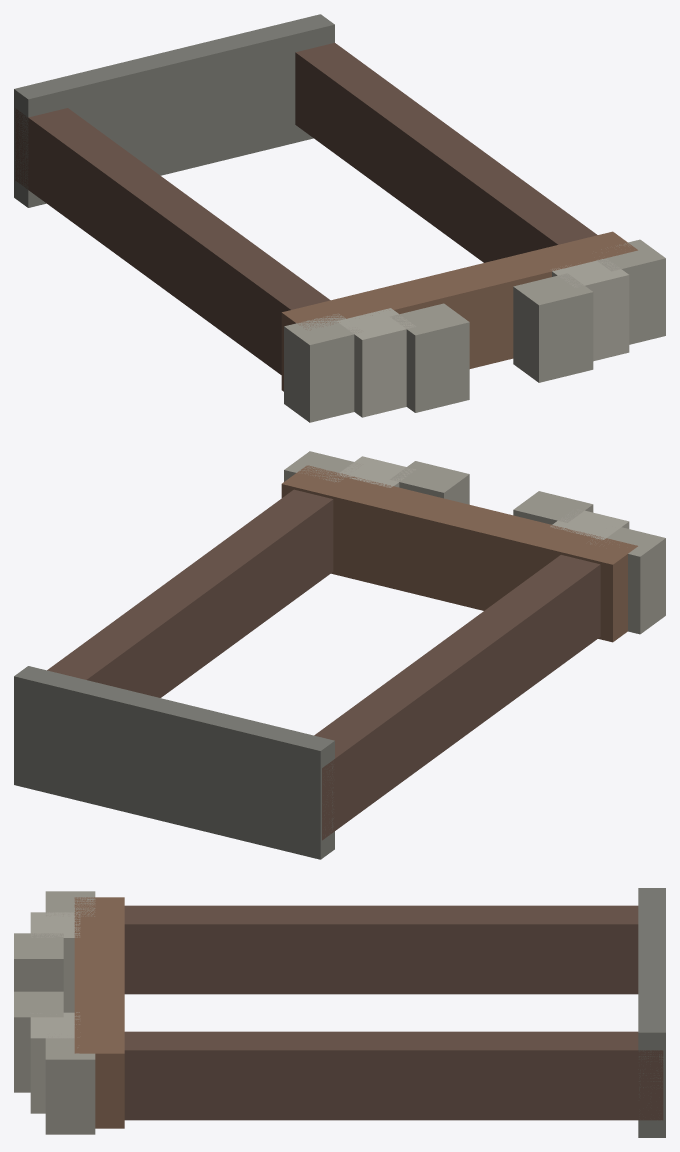
File: medieval_arch_doorframe.glb
The picture shows the model from 3 angles, top to bottom: view 1: azimuth 30°, elevation 25°; view 2: azimuth 150°, elevation 25°; view 3: azimuth 270°, elevation 25°; orthographic projection. The views are drawn at different scales.
Parts seen in each view (by area): view 1: medieval_arch_doorframe_000, medieval_arch_doorframe_009, medieval_arch_doorframe_001, medieval_arch_doorframe_002, medieval_arch_doorframe_006, medieval_arch_doorframe_005, medieval_arch_doorframe_003, medieval_arch_doorframe_004, medieval_arch_doorframe_007, medieval_arch_doorframe_008; view 2: medieval_arch_doorframe_009, medieval_arch_doorframe_000, medieval_arch_doorframe_002, medieval_arch_doorframe_001, medieval_arch_doorframe_005, medieval_arch_doorframe_006, medieval_arch_doorframe_003, medieval_arch_doorframe_007, medieval_arch_doorframe_004, medieval_arch_doorframe_008; view 3: medieval_arch_doorframe_001, medieval_arch_doorframe_000, medieval_arch_doorframe_002, medieval_arch_doorframe_009, medieval_arch_doorframe_008, medieval_arch_doorframe_003, medieval_arch_doorframe_006, medieval_arch_doorframe_007, medieval_arch_doorframe_004, medieval_arch_doorframe_005.
Boxes of the visible parts, box(x1,y1,x2,y2) form: medieval_arch_doorframe_000: box(15, 108, 330, 374); medieval_arch_doorframe_009: box(14, 14, 334, 207); medieval_arch_doorframe_001: box(295, 42, 597, 262); medieval_arch_doorframe_002: box(281, 231, 637, 391); medieval_arch_doorframe_006: box(513, 273, 593, 382); medieval_arch_doorframe_005: box(284, 313, 363, 422); medieval_arch_doorframe_003: box(390, 303, 469, 412); medieval_arch_doorframe_004: box(337, 308, 415, 417); medieval_arch_doorframe_007: box(552, 259, 629, 361); medieval_arch_doorframe_008: box(596, 239, 665, 344); medieval_arch_doorframe_009: box(14, 666, 334, 859); medieval_arch_doorframe_000: box(314, 555, 600, 840); medieval_arch_doorframe_002: box(281, 465, 637, 642); medieval_arch_doorframe_001: box(47, 489, 333, 697); medieval_arch_doorframe_005: box(590, 527, 665, 634); medieval_arch_doorframe_006: box(390, 461, 469, 504); medieval_arch_doorframe_003: box(513, 491, 593, 524); medieval_arch_doorframe_007: box(337, 456, 415, 487); medieval_arch_doorframe_004: box(550, 509, 629, 539); medieval_arch_doorframe_008: box(284, 451, 363, 482); medieval_arch_doorframe_001: box(124, 1031, 663, 1120); medieval_arch_doorframe_000: box(124, 905, 638, 994); medieval_arch_doorframe_002: box(74, 897, 124, 1128); medieval_arch_doorframe_009: box(638, 888, 665, 1137); medieval_arch_doorframe_008: box(45, 1036, 95, 1134); medieval_arch_doorframe_003: box(14, 933, 63, 991); medieval_arch_doorframe_006: box(14, 991, 63, 1092); medieval_arch_doorframe_007: box(30, 1012, 79, 1113); medieval_arch_doorframe_004: box(30, 912, 80, 1012); medieval_arch_doorframe_005: box(45, 891, 95, 916).
Size of the model in its own units: 1.44 by 0.42 by 2.36.
